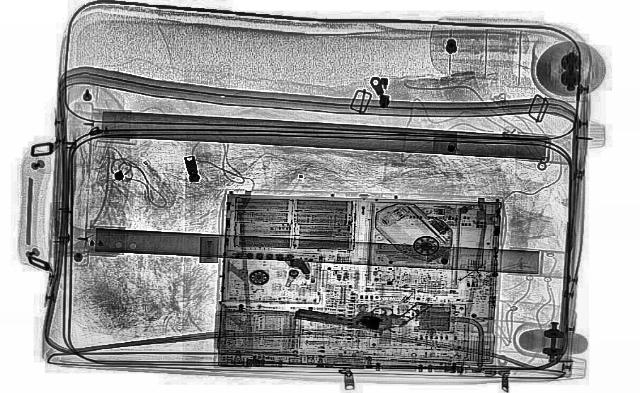Gun: (290, 284, 432, 336)
